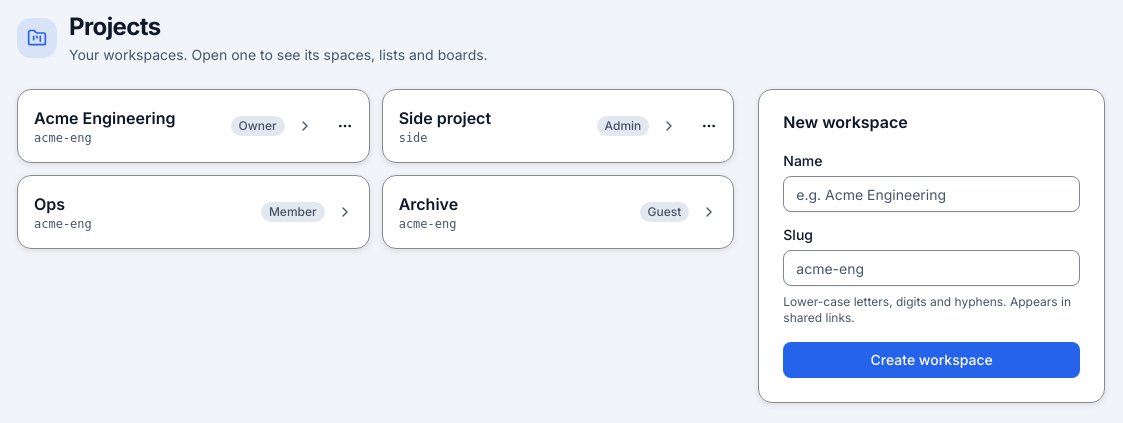
<Projects> changing a workspace › offers Edit to admins and owners, Delete to owners only, and members and guests nothing
expect the list named "Workspaces" is shown: met, box [17,89,734,249]
Click the button named "Actions for Acme Engineering" at (345, 126), box [329,110,361,142]
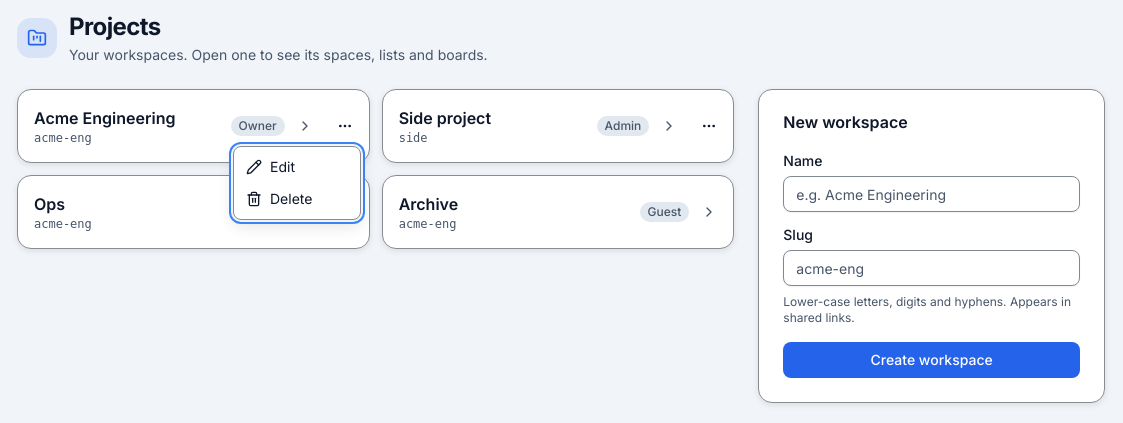
expect the menu items read "Edit", "Delete", in this order: met, box [246,158,295,175]; [246,190,312,207]
Press Escape
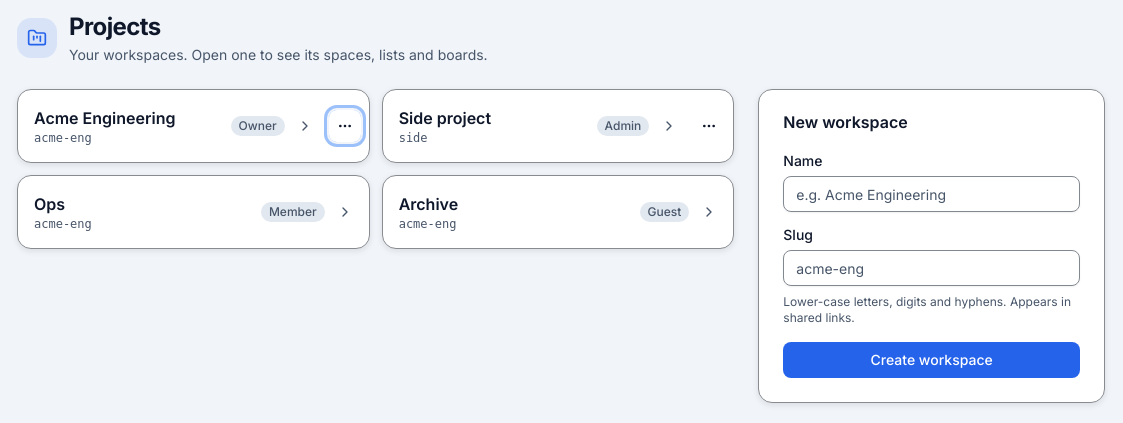
Click the button named "Actions for Side project" at (709, 126), box [693,110,725,142]
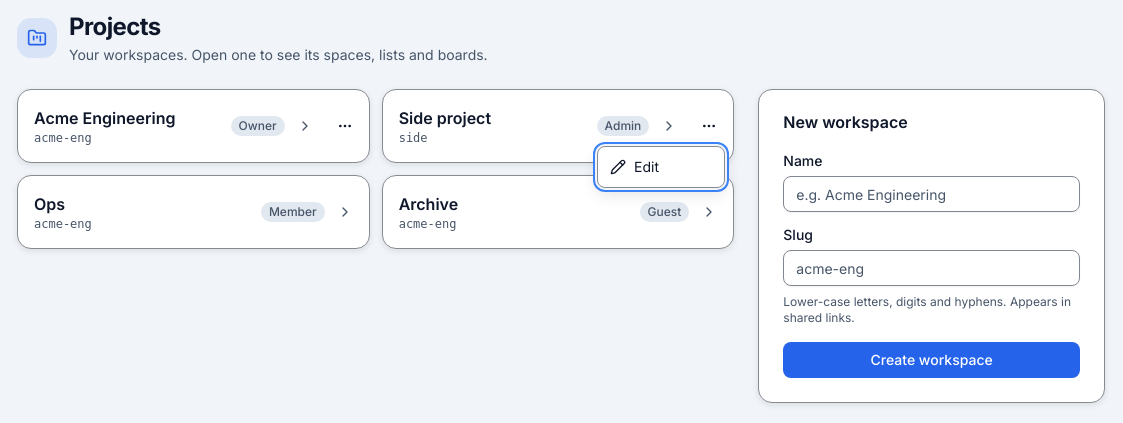
expect the menu items read "Edit", in this order: met, box [610,158,659,175]
